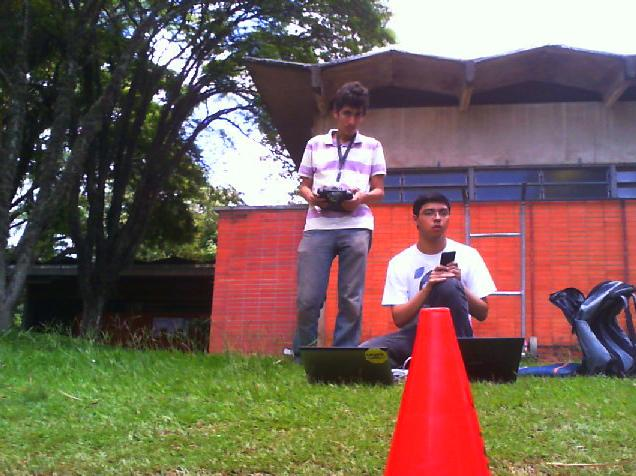0 cone: (383, 308, 491, 476)
